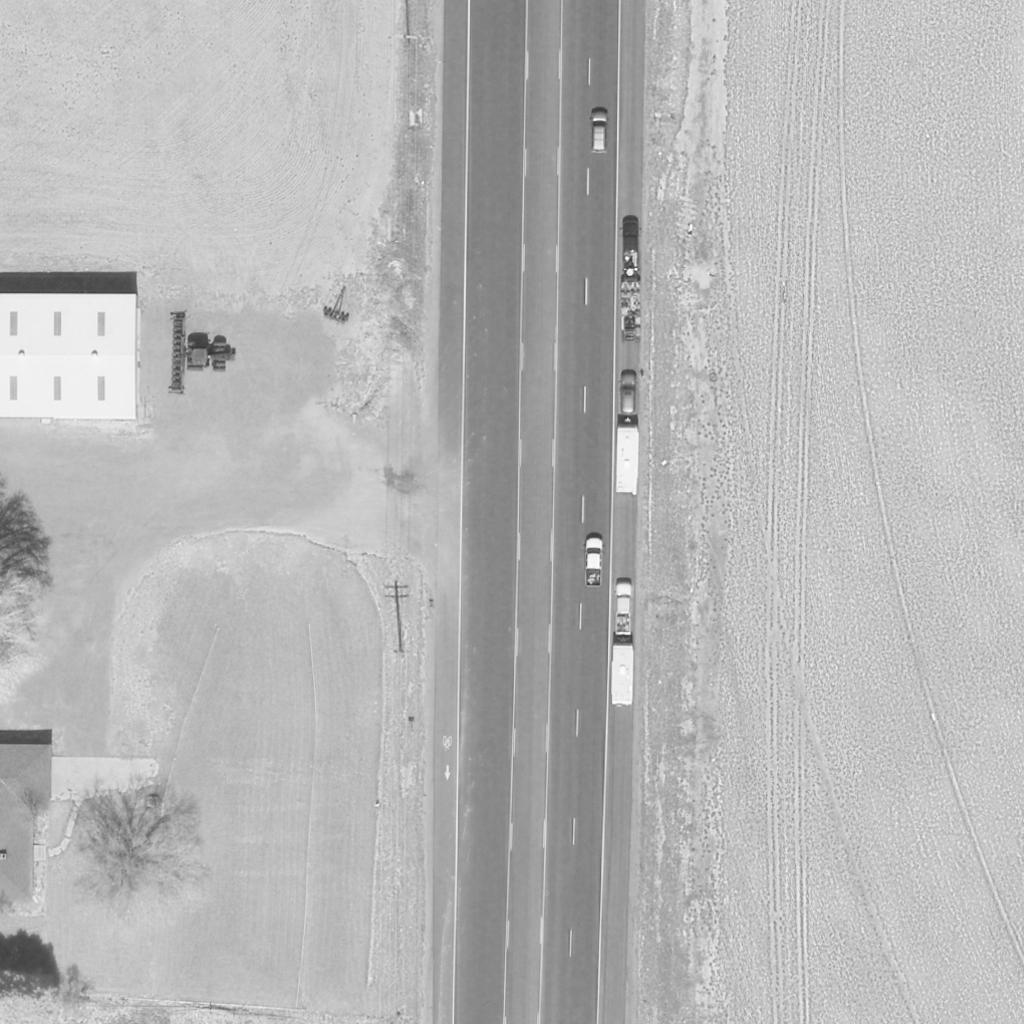vehicle: (614, 424, 640, 492), (612, 643, 634, 707), (188, 341, 228, 373), (584, 537, 604, 587), (622, 218, 640, 270), (616, 584, 632, 636), (620, 369, 638, 413), (590, 111, 608, 153)
